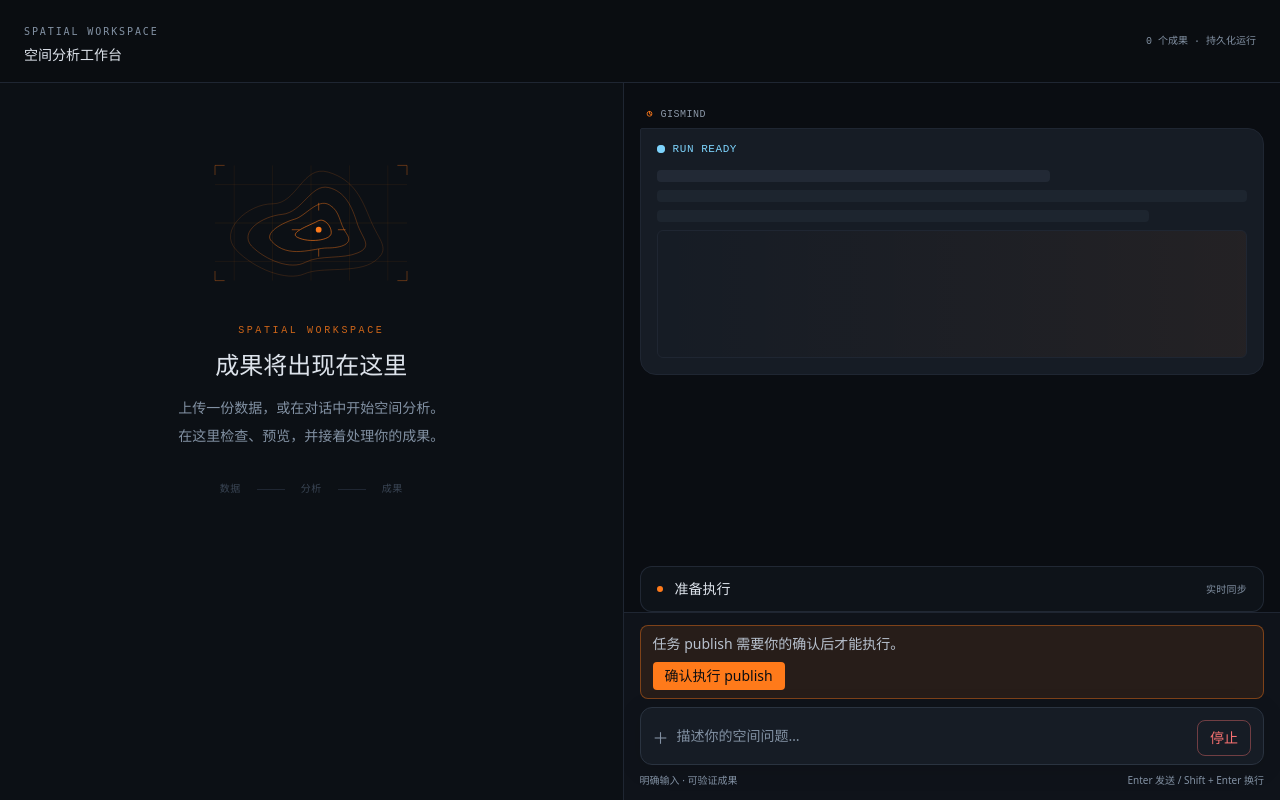
Scenario: Runtime chat interactions › requires a click and submits the exact pending action hash for confirmation
The image size is (1280, 800).
Click the button "确认执行 publish" at (719, 676), box [653,662,785,690]
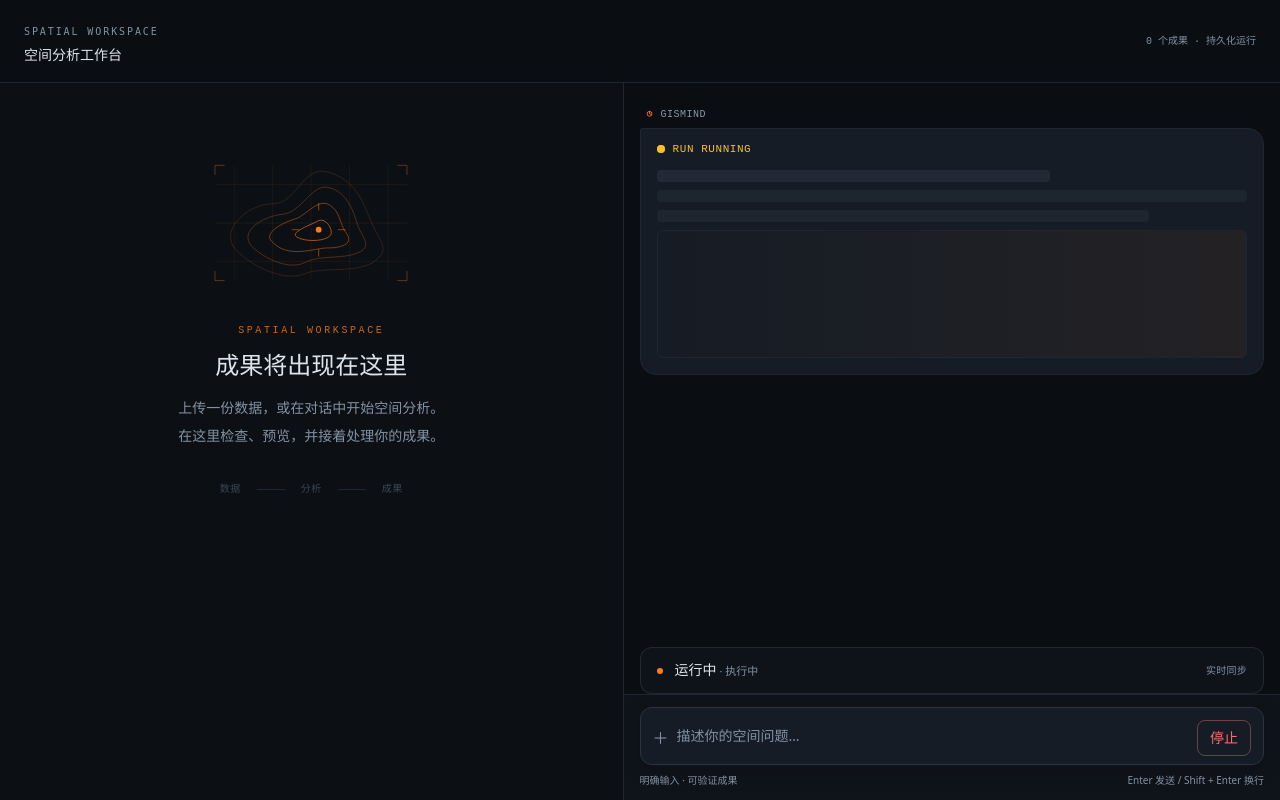
Now the button "确认执行 publish" is gone
